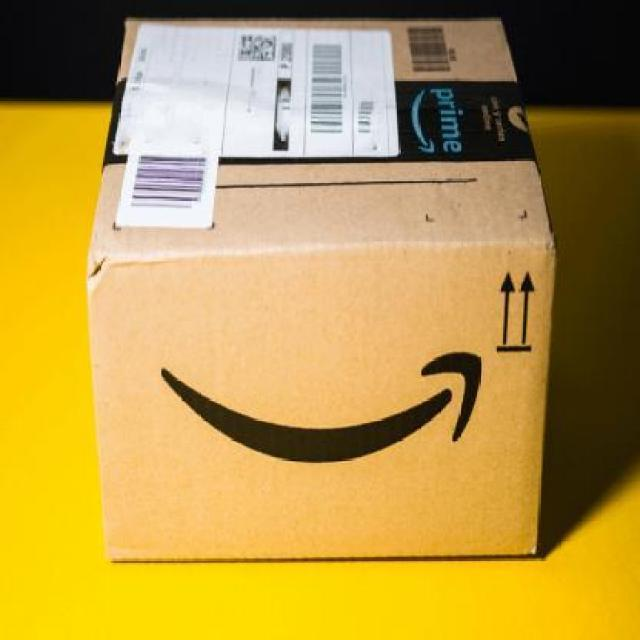box: (84, 23, 556, 561)
